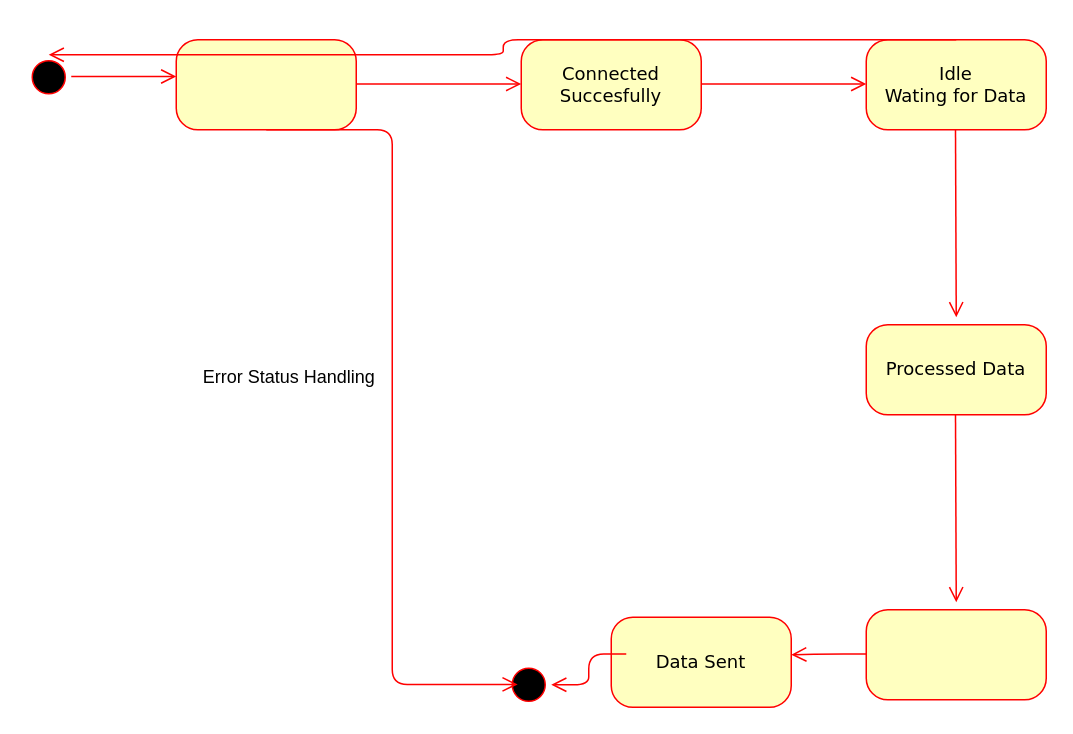
The diagram is 1073 pixels wide and 734 high, and some of its shapes have lost their labels. The centre of each missing label's shape, as x and y in pixels:
Connection with the API: pixel 265 84
Package Data: pixel 955 654
